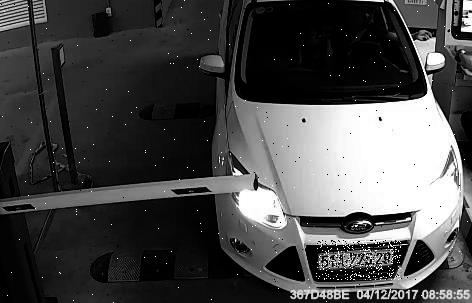License-plate: (318, 241, 403, 281)
